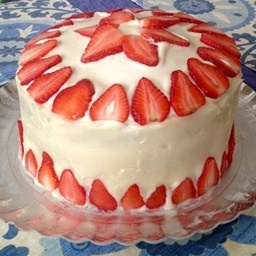background: (6, 2, 97, 84)
